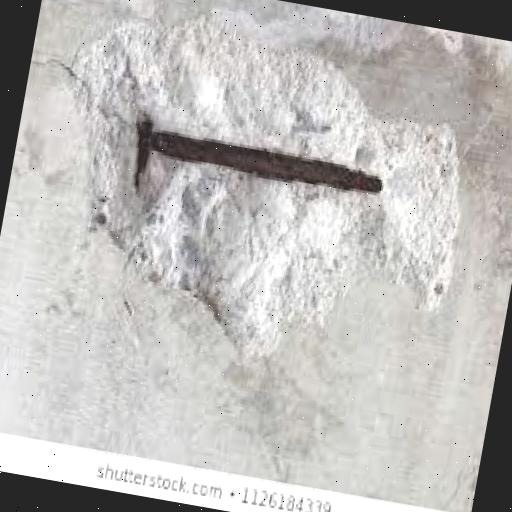spalling: (78, 19, 452, 348)
